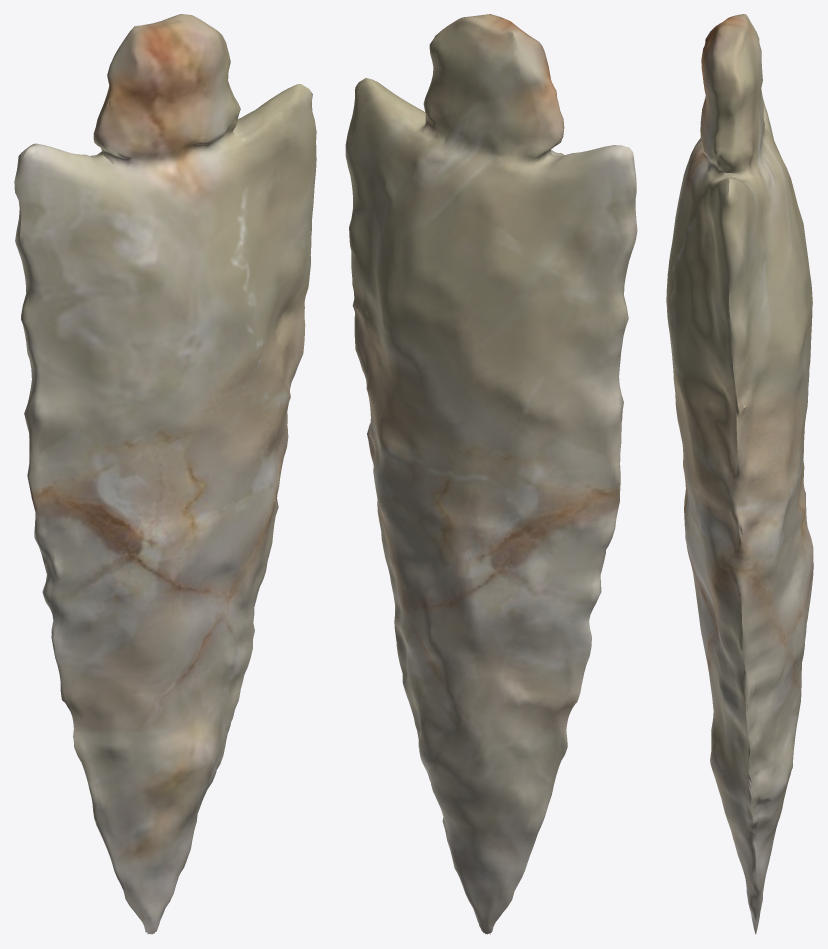
The model's file is StoneTool.glb.
3 renders of one model, left to right at view 1: azimuth 30°, elevation 25°; view 2: azimuth 150°, elevation 25°; view 3: azimuth 270°, elevation 25°, orthographic.
Visible parts, largest first — view 1: Object_3; view 2: Object_3; view 3: Object_3.
Part boxes in pixels (left/top/right/bottom): Object_3: left=14, top=14, right=316, bottom=934; Object_3: left=345, top=14, right=637, bottom=934; Object_3: left=666, top=14, right=813, bottom=934.
Bounding box in the file's own units: 77.7 × 230 × 33.58.
1 material, 1 textured.
